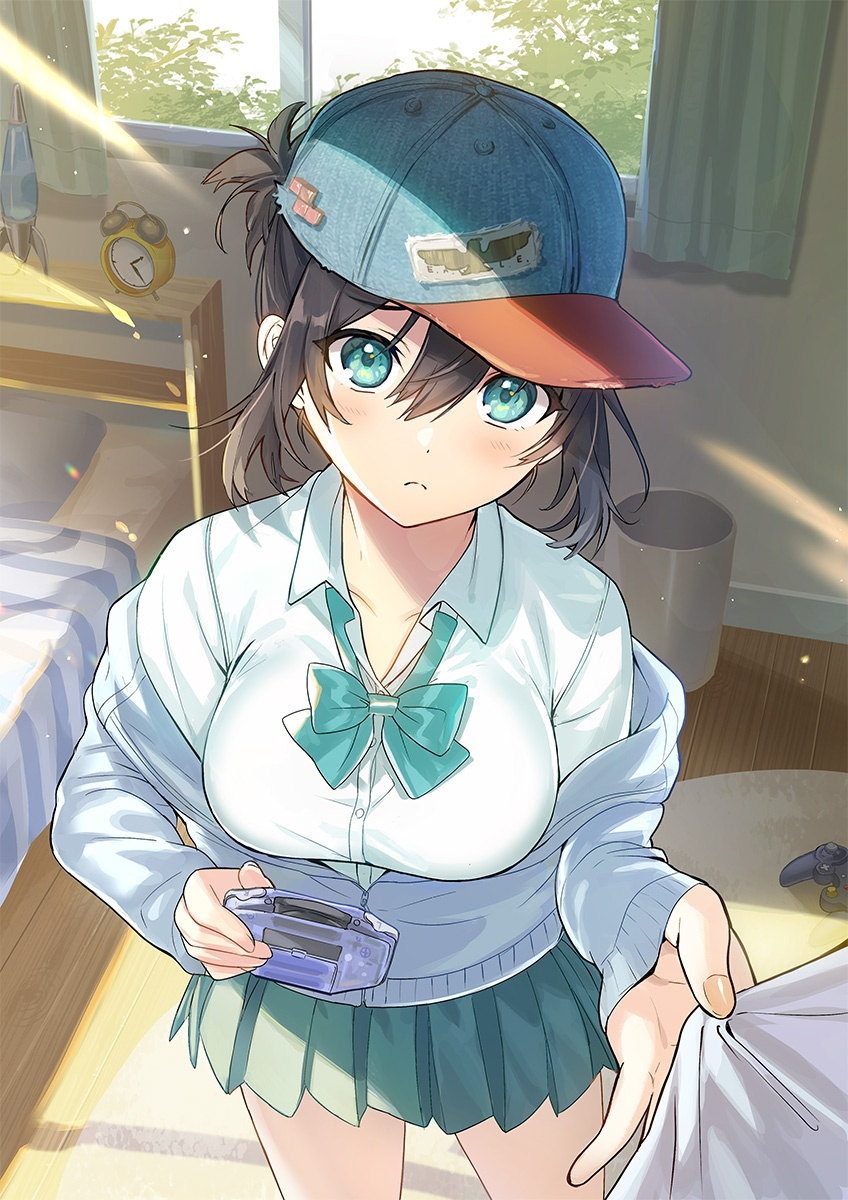纸片人正脸: (235, 85, 629, 548)
